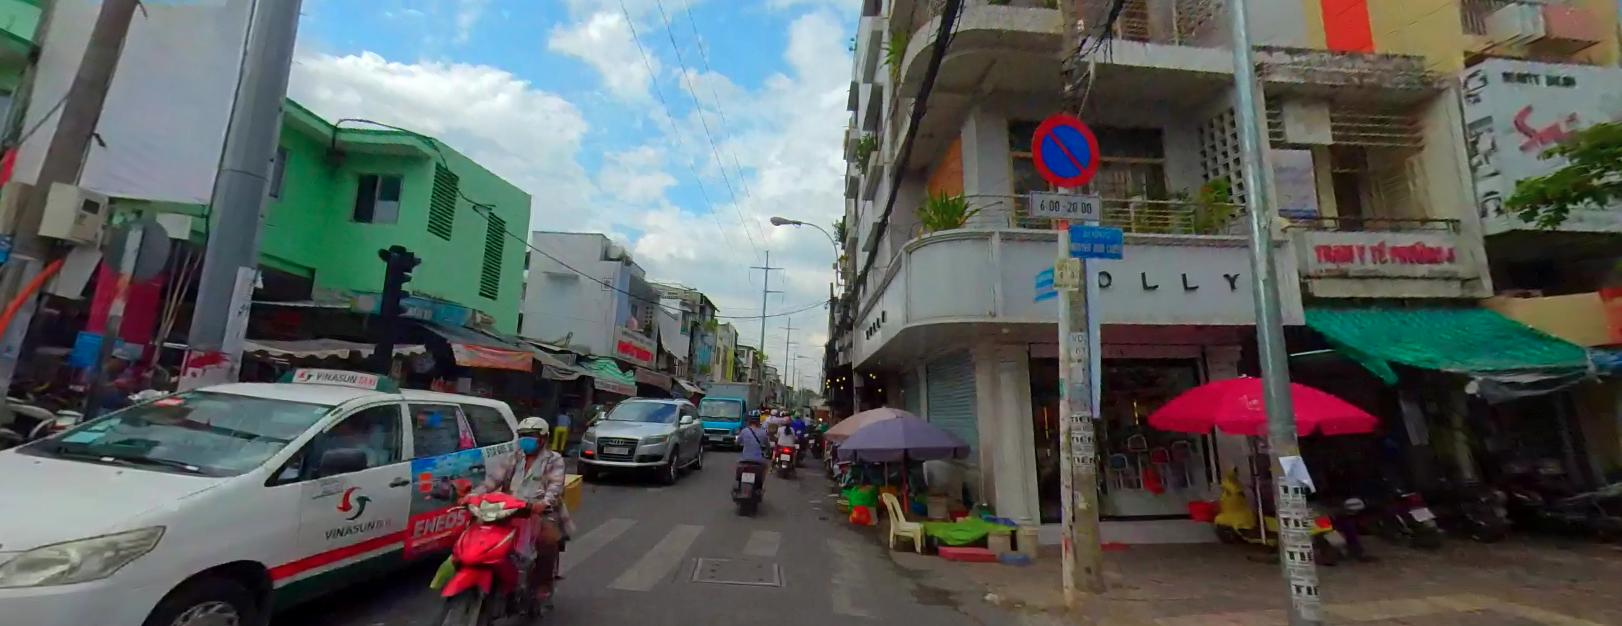Cam dung va do: (1030, 112, 1102, 186)
